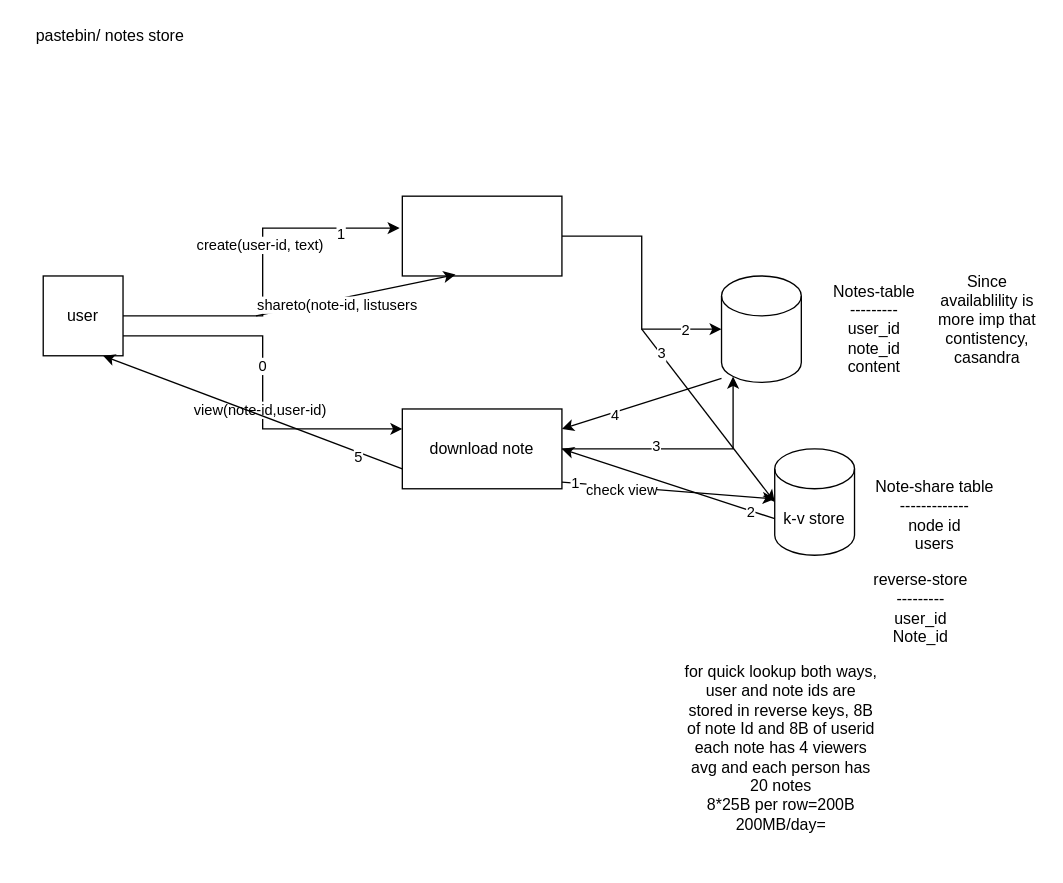
Some shapes in this 1063 by 883 pixel diagram are drawn without their labels. The centre of each missing label's shape, as x and y in pixels:
no sql: the point at 760,328
upload note: the point at 481,235
